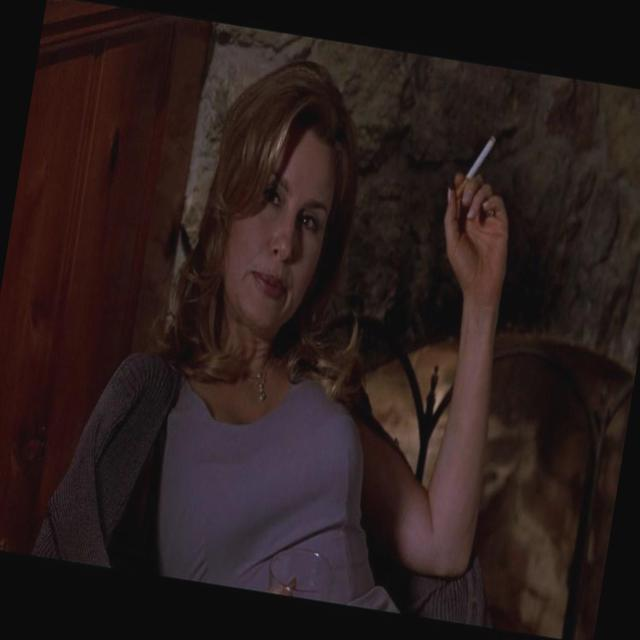smoke: (453, 112, 497, 207)
